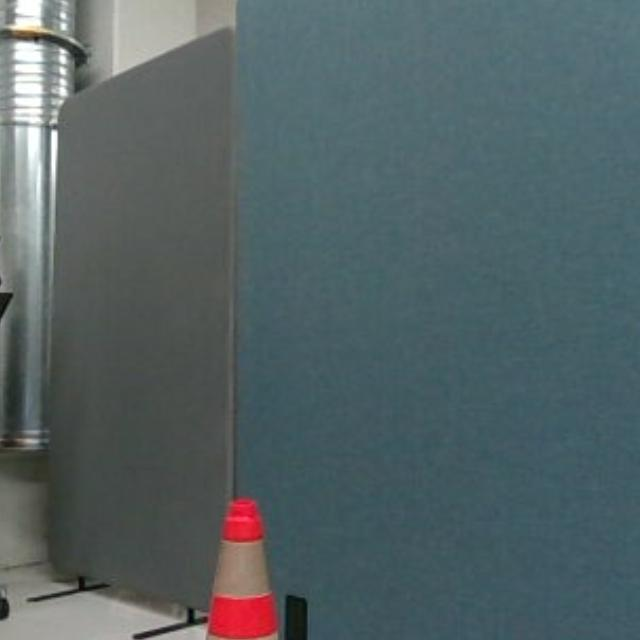Traffic-cone: (144, 495, 330, 640)
